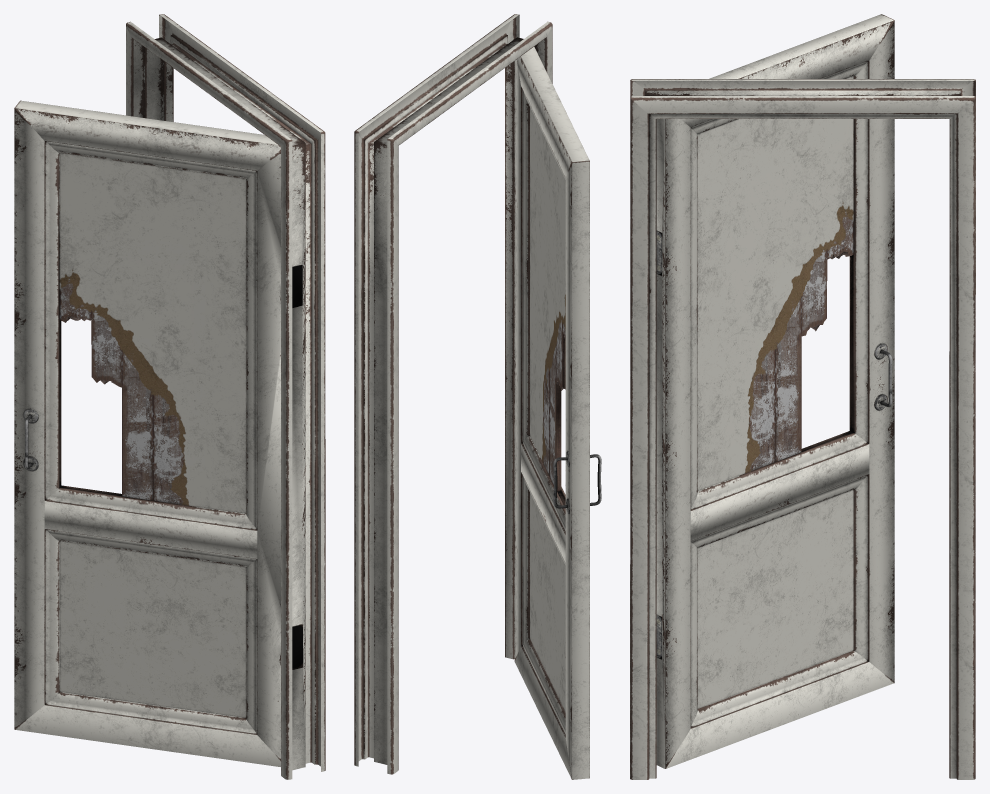
The model's file is broken_door.glb.
The picture shows the model from 3 angles, left to right: view 1: azimuth 30°, elevation 25°; view 2: azimuth 150°, elevation 25°; view 3: azimuth 270°, elevation 25°; orthographic projection. The views are drawn at different scales.
Size of the model in its own units: 0.6547 by 2.06 by 0.9454.
Materials: 1 (1 with a texture image).
